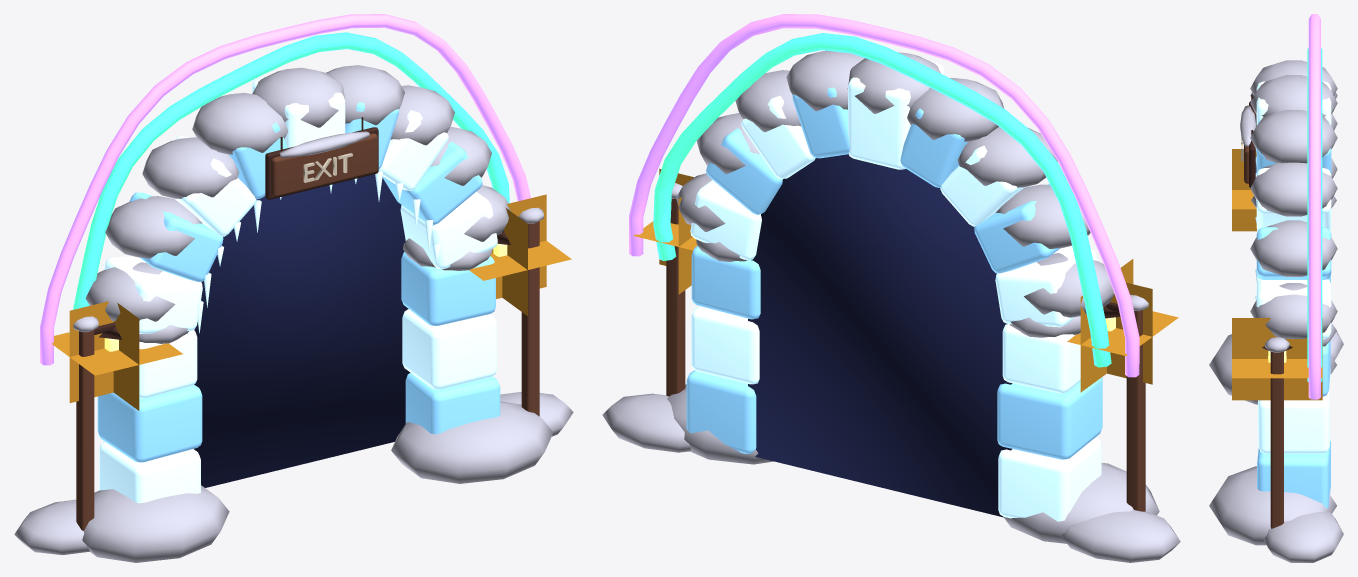
File: frost_portal_arch.glb
3 renders of one model, left to right at view 1: azimuth 30°, elevation 25°; view 2: azimuth 150°, elevation 25°; view 3: azimuth 270°, elevation 25°, orthographic. The views are drawn at different scales.
Visible parts, largest first — view 1: PortalArch; view 2: PortalArch; view 3: PortalArch.
Part boxes in pixels (x1=…): PortalArch: x1=14, y1=14, x2=573, y2=562; PortalArch: x1=602, y1=14, x2=1180, y2=562; PortalArch: x1=1209, y1=14, x2=1343, y2=562.
Bounding box in the file's own units: 6.73 × 5.48 × 1.62.
